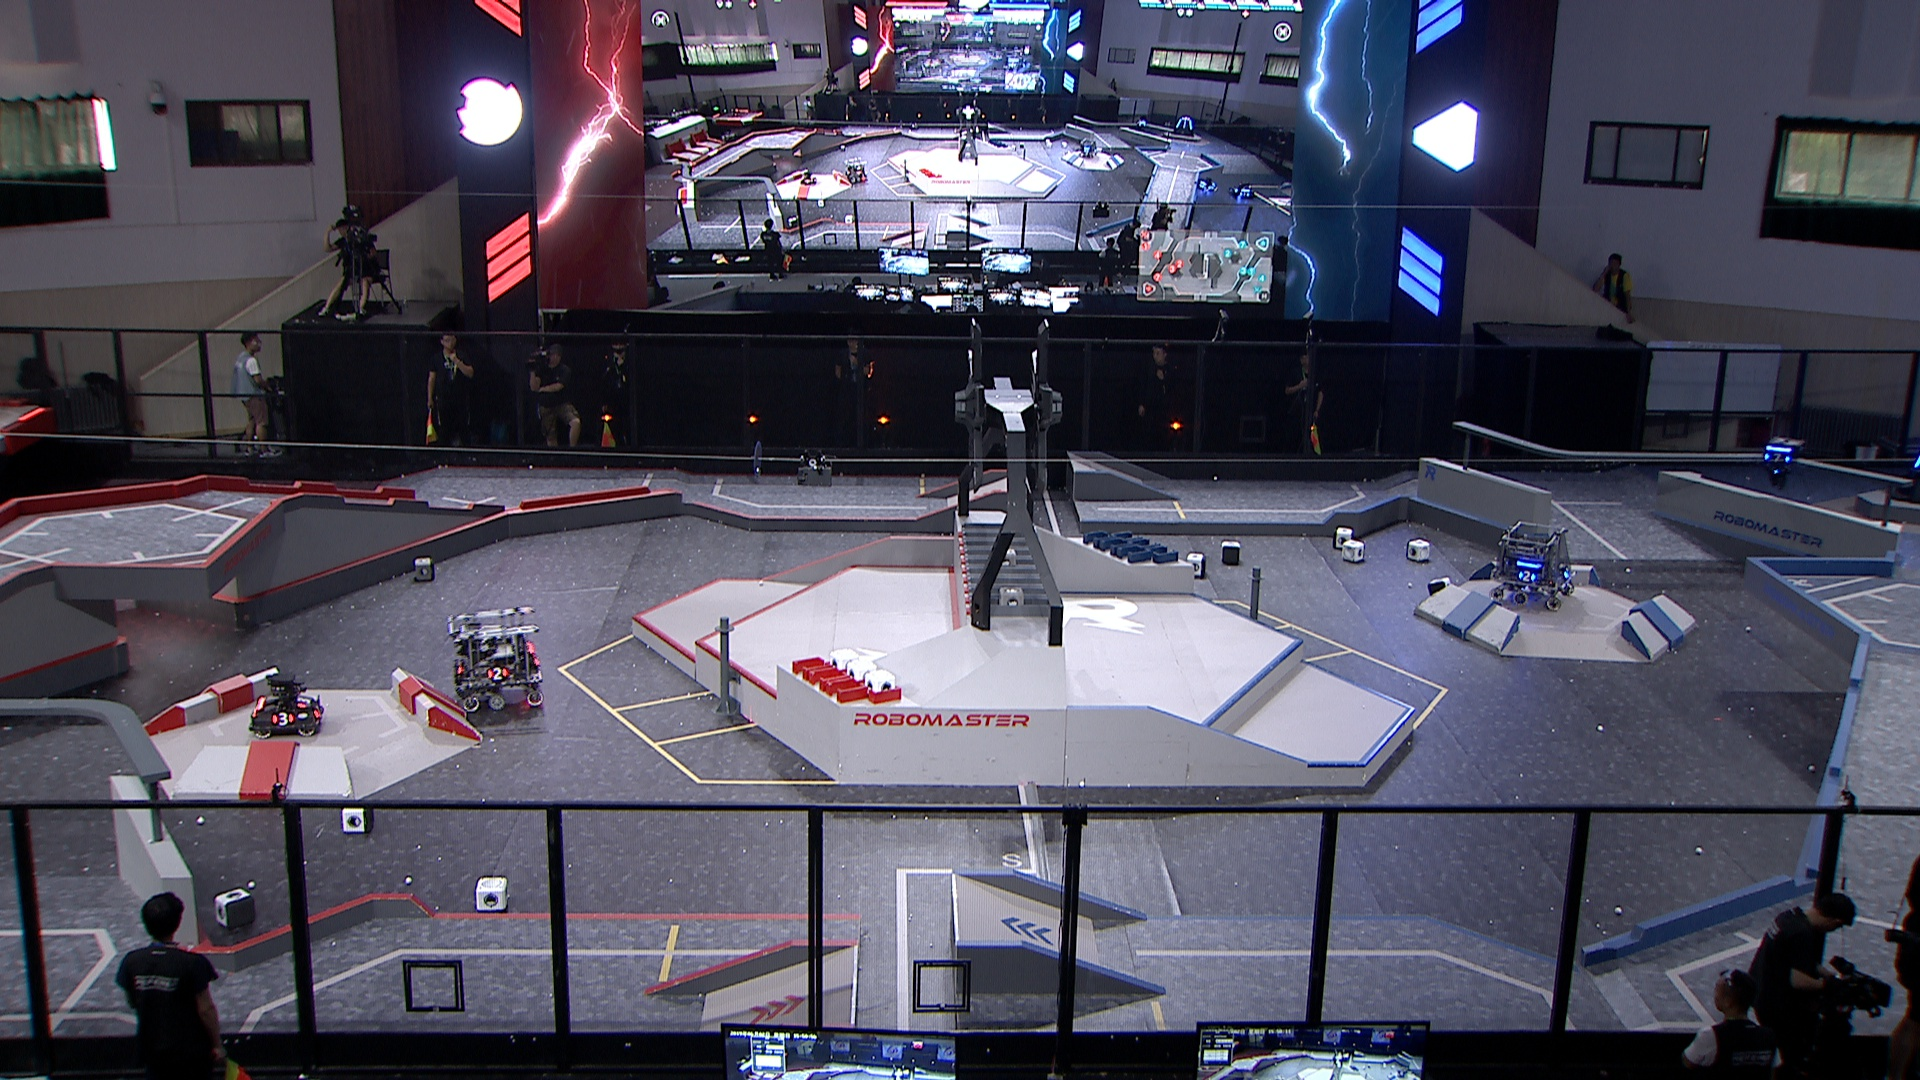armor: (1764, 451, 1788, 465), (272, 712, 291, 727), (1516, 570, 1536, 584), (455, 657, 468, 678), (295, 694, 313, 707), (487, 669, 505, 680), (313, 702, 323, 719), (1557, 566, 1572, 578), (1912, 454, 1920, 472)
base: (1884, 433, 1920, 506)
car: (442, 603, 547, 712), (1486, 520, 1577, 616), (244, 669, 328, 737)
ignore: (843, 154, 869, 186), (1168, 112, 1197, 138), (1076, 136, 1102, 158), (1229, 179, 1255, 199), (1193, 174, 1215, 195), (799, 167, 820, 187), (1134, 115, 1150, 135)
watcher: (1753, 431, 1809, 489)
